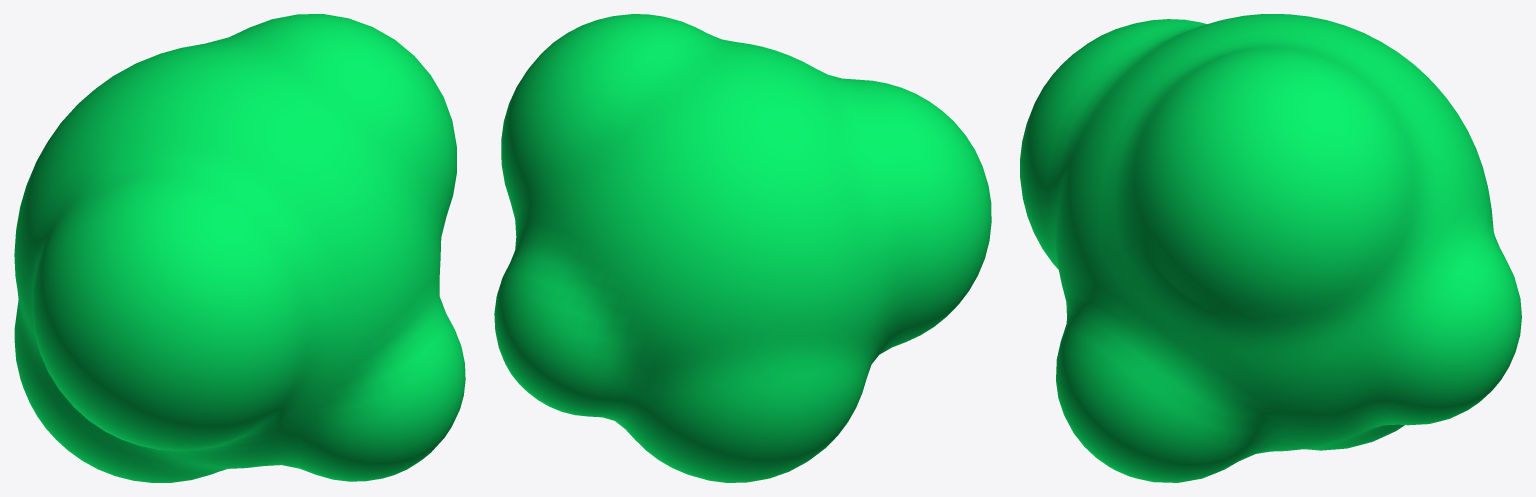
File: SK_Urle_Hair_Medium_L.fbx
3 renders of one model, left to right at view 1: azimuth 30°, elevation 25°; view 2: azimuth 150°, elevation 25°; view 3: azimuth 270°, elevation 25°, orthographic. The views are drawn at different scales.
Visible parts, largest first — view 1: Urle_Hair_Medium_L; view 2: Urle_Hair_Medium_L; view 3: Urle_Hair_Medium_L.
Boxes of the visible parts, box(x1,y1,x2,y2) form: Urle_Hair_Medium_L: box(14, 14, 465, 482); Urle_Hair_Medium_L: box(494, 14, 991, 482); Urle_Hair_Medium_L: box(1020, 14, 1521, 482).
Size of the model in its own units: 41.26 by 38.6 by 39.95.
